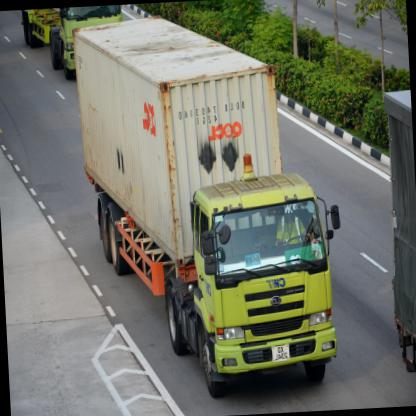truck: (185, 168, 340, 406)
